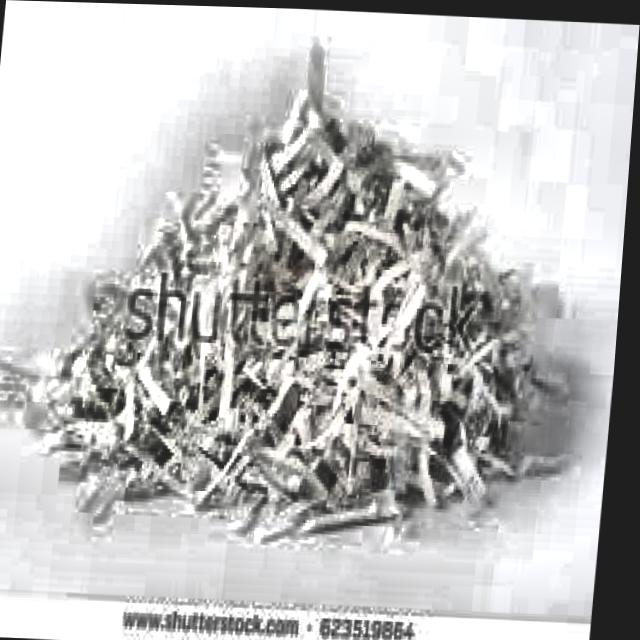Paper: (0, 29, 593, 547)
